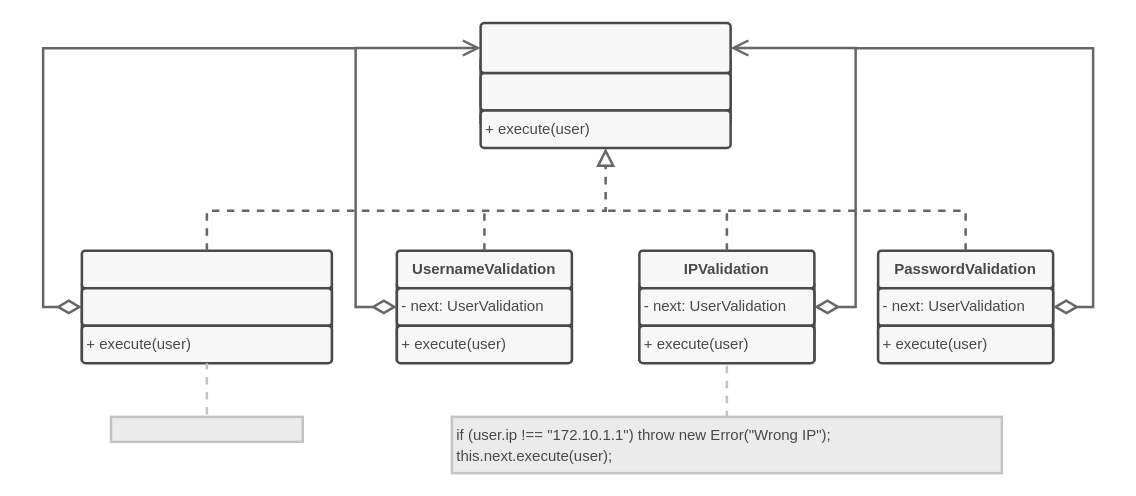
The diagram is 1136 pixels wide and 496 high, and some of its shapes have lost their labels. Here are the shapes that lost their labels. From the top down, the centre of each, then its label:
At pixel 605 47: "<<interface>> UserValidation".
At pixel 605 91: "+ next: UserValidation | undefined".
At pixel 206 269: "NoValidation".
At pixel 206 306: "- next: UserValidation | undefined".
At pixel 206 428: "empty: no execution".
